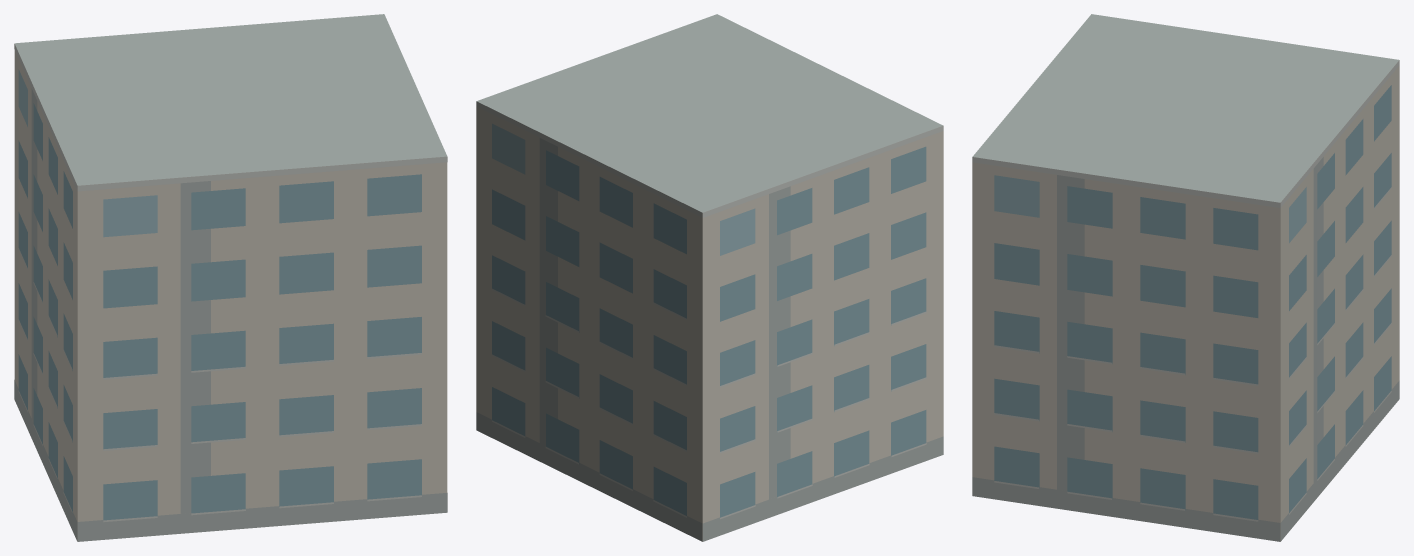
The model's file is residential-db6b0720-70e0-477a-a621-cf30e28df438.glb.
3 renders of one model, left to right at view 1: azimuth 30°, elevation 25°; view 2: azimuth 150°, elevation 25°; view 3: azimuth 270°, elevation 25°, orthographic. The views are drawn at different scales.
Parts seen in each view (by area): view 1: residential-db6b0720-70e0-477a-a621-cf30e28df438.tmp; view 2: residential-db6b0720-70e0-477a-a621-cf30e28df438.tmp; view 3: residential-db6b0720-70e0-477a-a621-cf30e28df438.tmp.
Part boxes in pixels (x1,y1,x2,y2): residential-db6b0720-70e0-477a-a621-cf30e28df438.tmp: (14, 14, 447, 541); residential-db6b0720-70e0-477a-a621-cf30e28df438.tmp: (476, 14, 943, 541); residential-db6b0720-70e0-477a-a621-cf30e28df438.tmp: (972, 14, 1399, 541).
Bounding box in the file's own units: 18.21 × 15.25 × 17.42.
